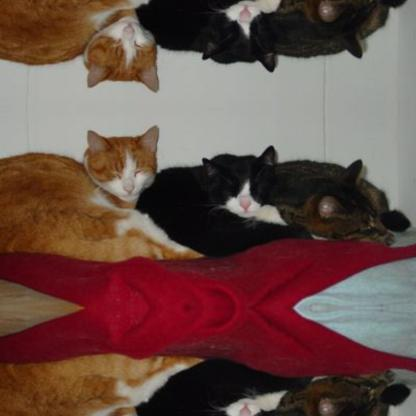Cat: (0, 122, 200, 262), (134, 143, 312, 255), (0, 0, 201, 95), (134, 0, 312, 74), (0, 353, 201, 415), (134, 360, 312, 415), (278, 155, 394, 238), (278, 0, 394, 61), (278, 376, 394, 415)
